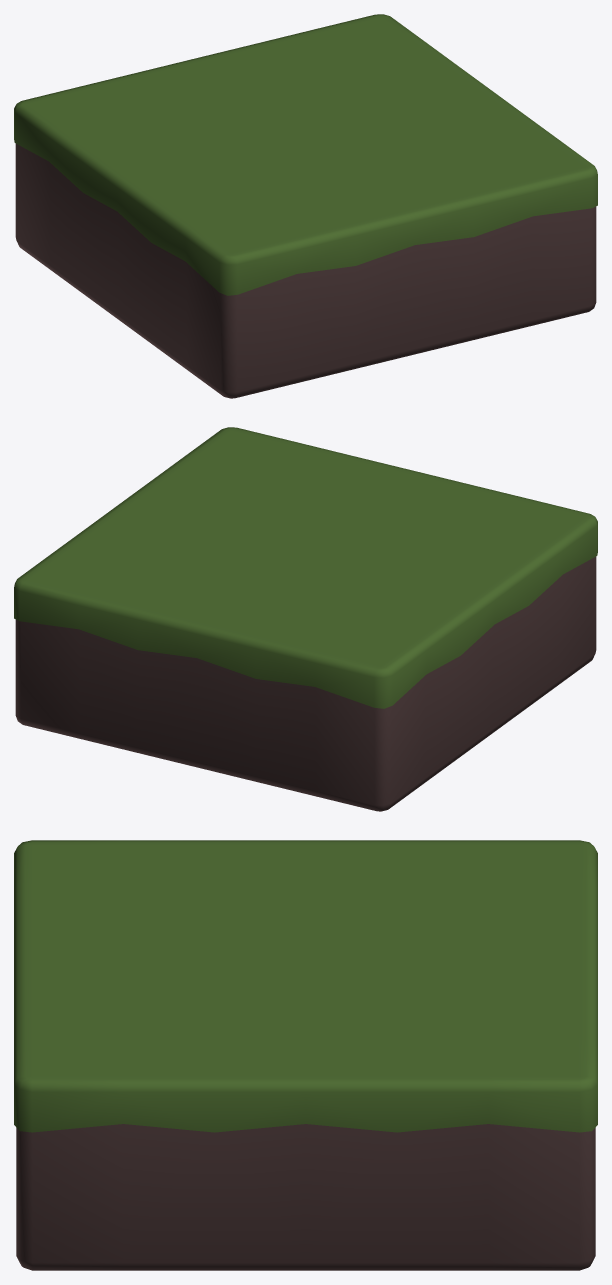
The model's file is Tile3x3.fbx.
The picture shows the model from 3 angles, top to bottom: view 1: azimuth 30°, elevation 25°; view 2: azimuth 150°, elevation 25°; view 3: azimuth 270°, elevation 25°; orthographic projection. The views are drawn at different scales.
Visible parts, largest first — view 1: Tile-3x3; view 2: Tile-3x3; view 3: Tile-3x3.
Boxes of the visible parts, bbox=[...] form: Tile-3x3: bbox=[14, 14, 597, 398]; Tile-3x3: bbox=[14, 427, 597, 811]; Tile-3x3: bbox=[14, 840, 597, 1270].
Bounding box in the file's own units: 5.45 × 2 × 5.45.
